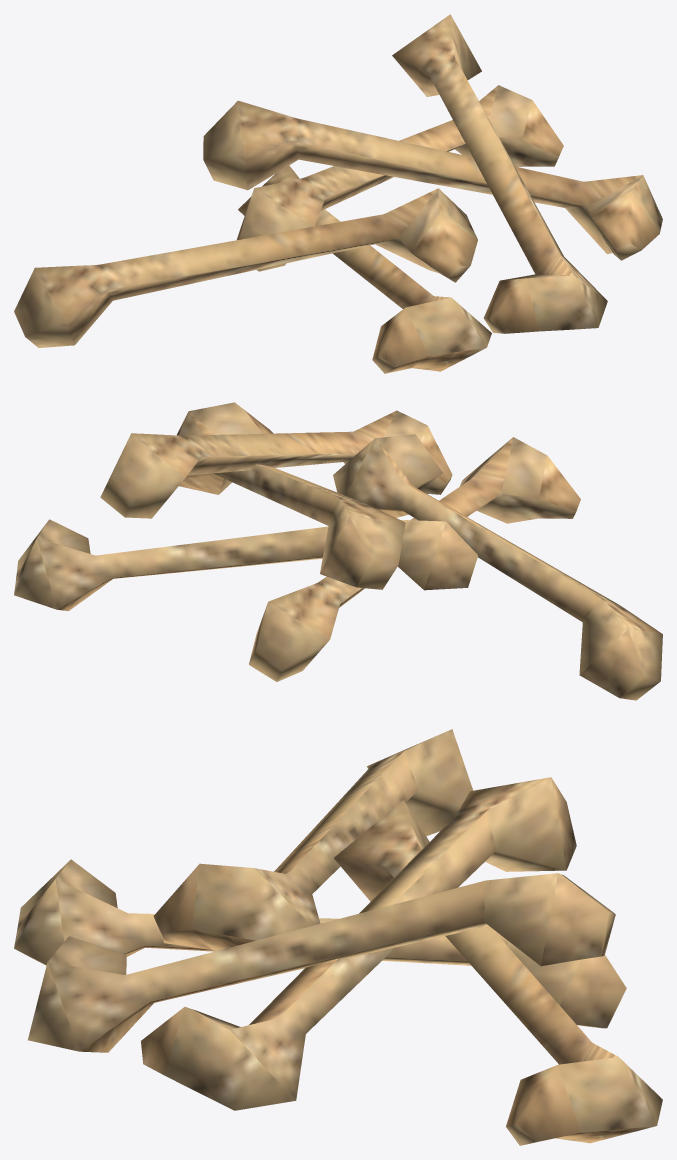
Rendered from Bones01.FBX.
The picture shows the model from 3 angles, top to bottom: view 1: azimuth 30°, elevation 25°; view 2: azimuth 150°, elevation 25°; view 3: azimuth 270°, elevation 25°; orthographic projection. The views are drawn at different scales.
Visible parts, largest first — view 1: Bones01; view 2: Bones01; view 3: Bones01.
Part boxes in pixels (box(x1,y1,x2,y2)): Bones01: box(14, 14, 662, 373); Bones01: box(14, 402, 662, 700); Bones01: box(14, 729, 662, 1145).
Bounding box in the file's own units: 1.27 × 0.9353 × 0.4117.
